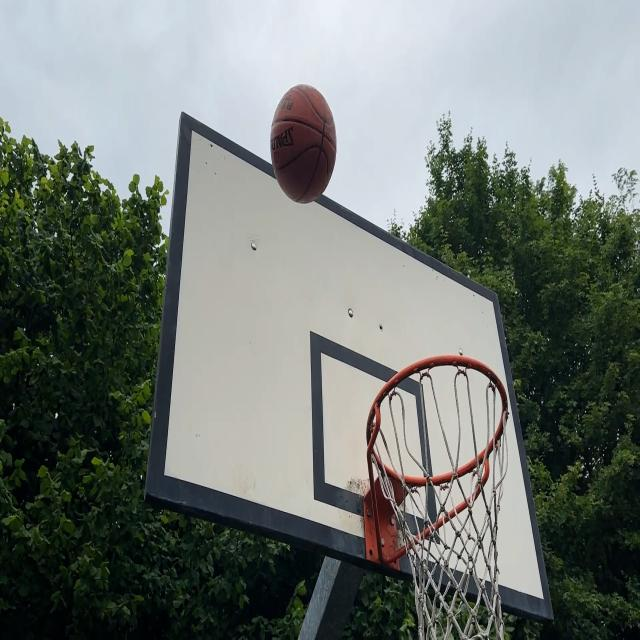Basketball: (270, 84, 336, 204)
